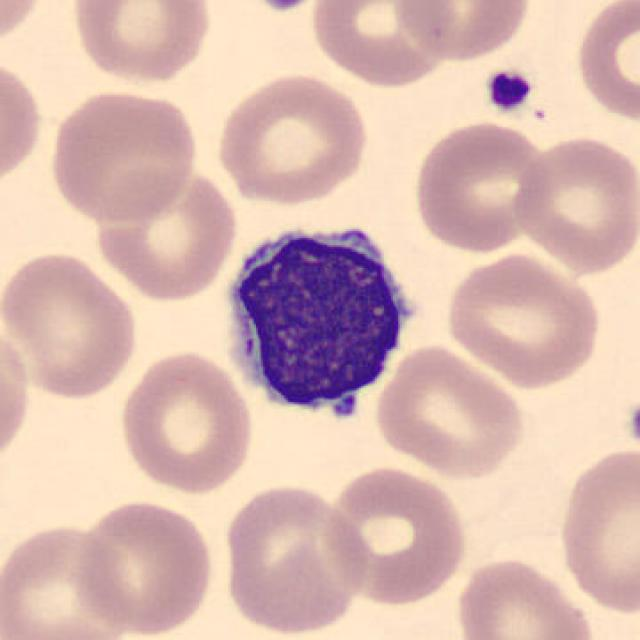Lymphocyte: (213, 210, 427, 432)
Platelets: (484, 65, 535, 115), (244, 0, 324, 14), (624, 397, 640, 453)
RBC: (218, 479, 372, 636), (443, 250, 606, 390), (44, 84, 201, 226), (0, 245, 142, 402), (212, 69, 374, 206), (372, 341, 528, 482), (320, 462, 469, 608), (115, 346, 258, 496), (71, 494, 217, 636), (91, 164, 240, 303), (409, 118, 553, 256), (510, 131, 638, 275), (0, 518, 140, 638), (555, 442, 638, 619), (306, 0, 458, 90), (451, 553, 599, 640), (67, 0, 215, 86), (393, 0, 535, 63), (570, 0, 640, 127), (0, 53, 46, 192), (0, 321, 34, 474), (0, 0, 50, 53)
